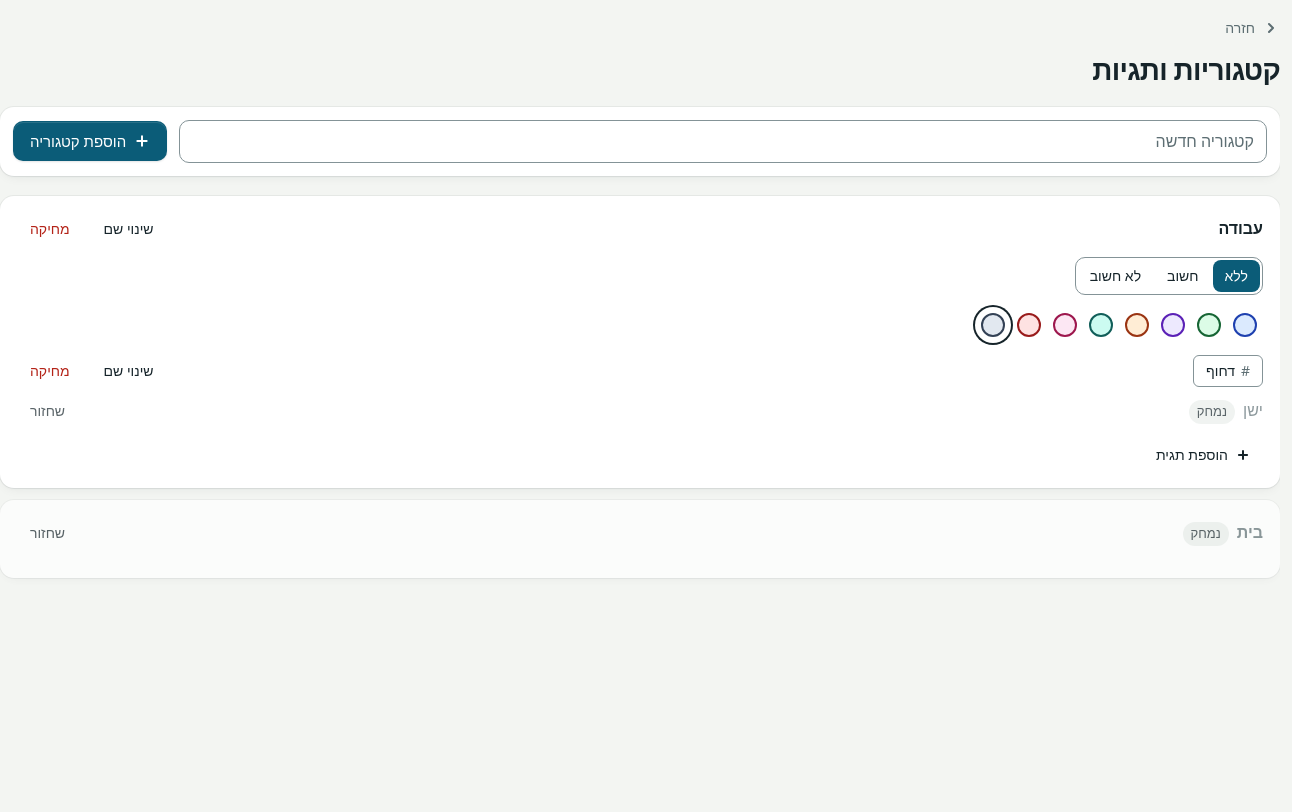
Test: TaxonomyScreen › shows the category-deleted error on a 422
Click the button with aria-label "הוספת תגית לעבודה" at {"x": 1203, "y": 455}, box [1143, 439, 1263, 471]
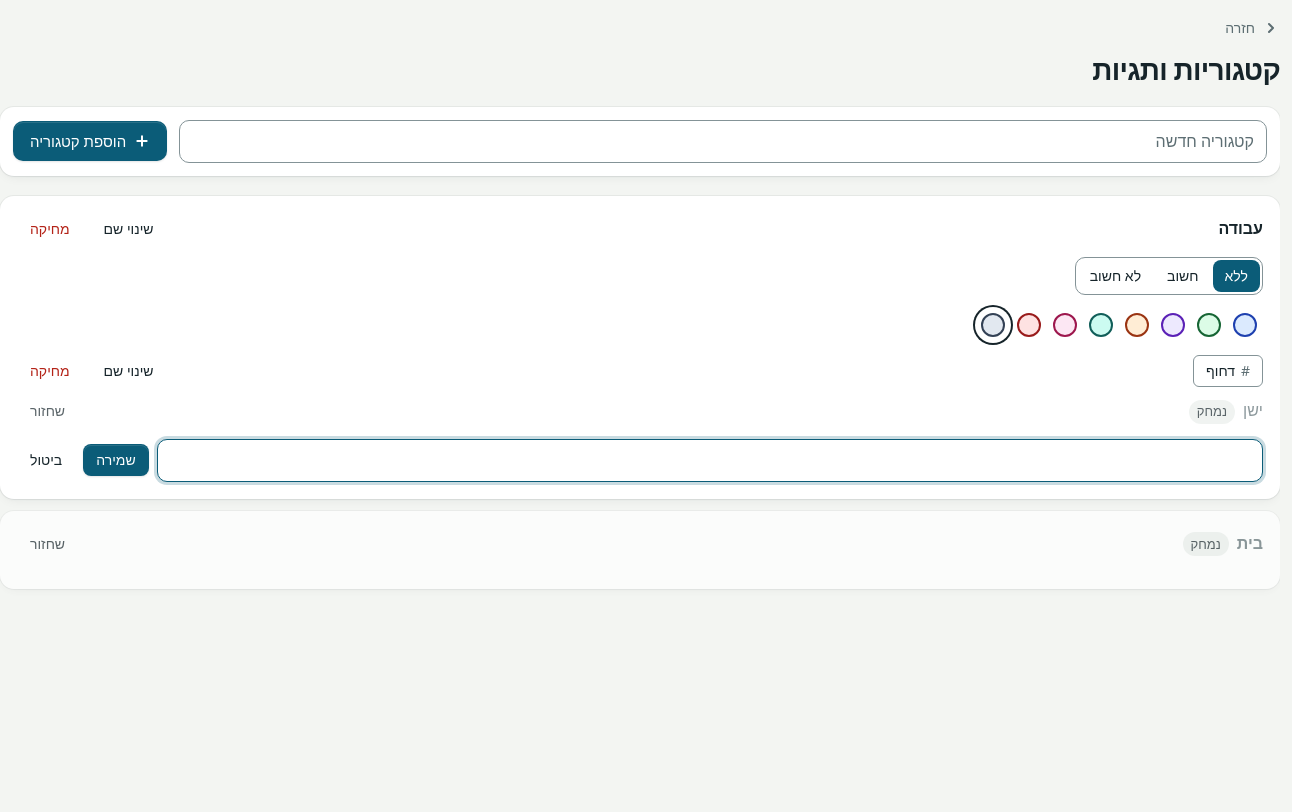
Type "x" into the field named "תגית חדשה בעבודה" at {"x": 710, "y": 460}, box [157, 439, 1263, 482]
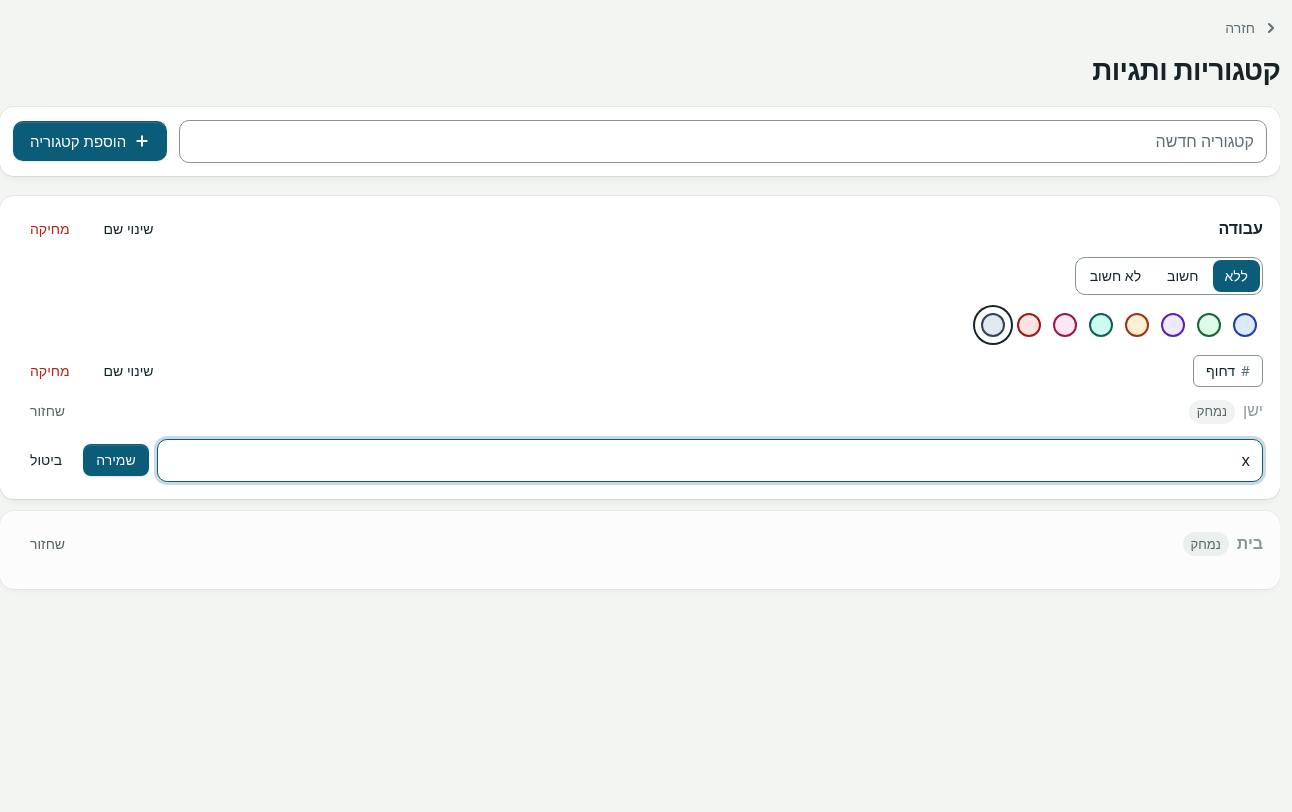
Click the button "שמירה" at {"x": 116, "y": 460}, box [83, 444, 149, 476]
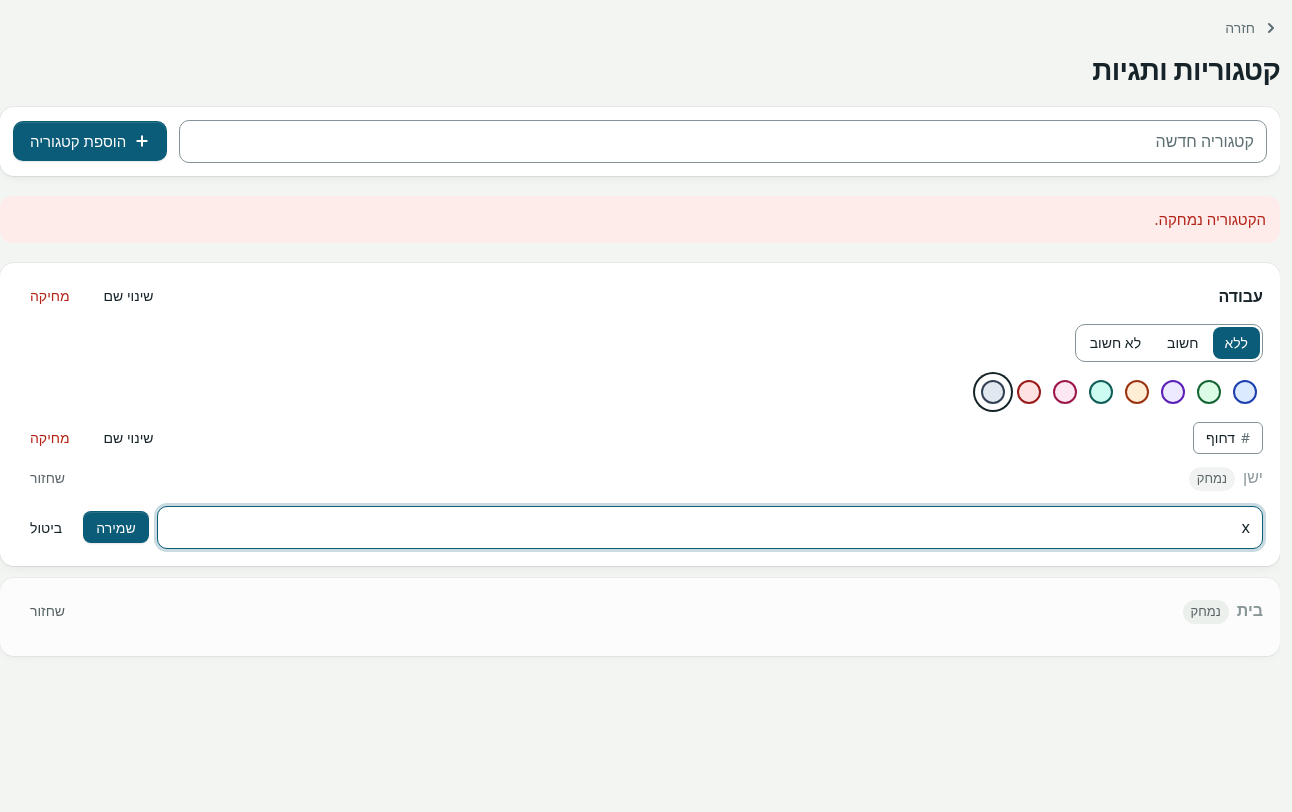
Now the message reads "הקטגוריה נמחקה.", box [1154, 209, 1266, 229]
